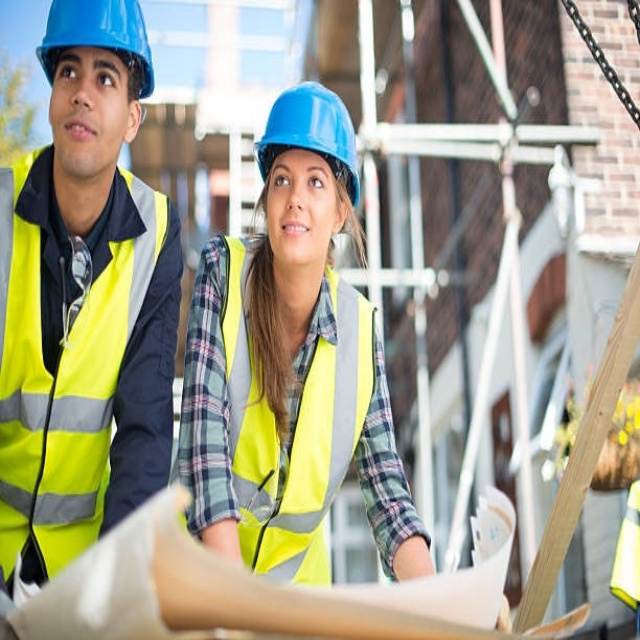Sin_gafas: (58, 58, 118, 96), (269, 160, 326, 199)
Sin_mascara: (59, 110, 99, 166), (275, 215, 316, 253)
